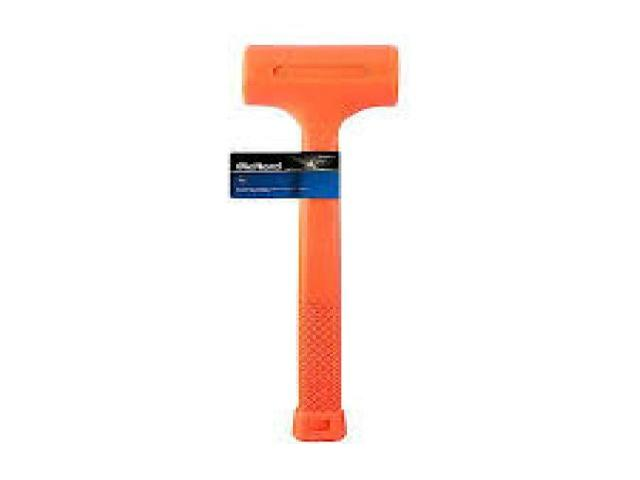hammer: (241, 43, 401, 442)
